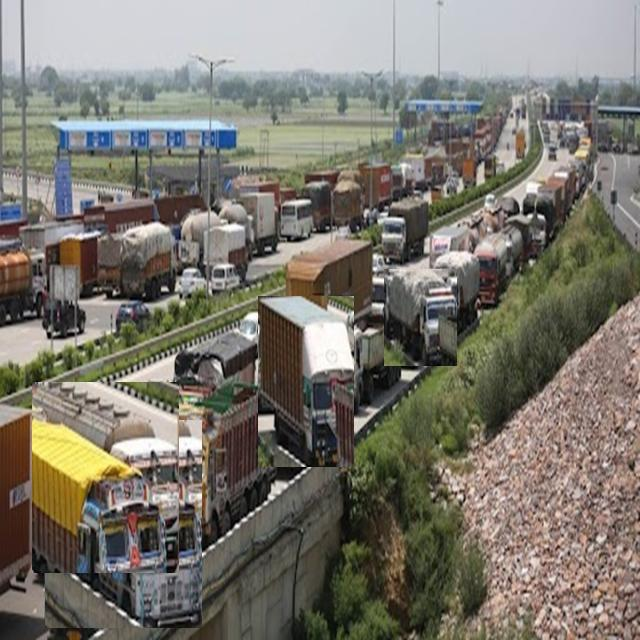car: (239, 313, 266, 354)
truck: (45, 420, 202, 628), (32, 383, 179, 573), (259, 297, 354, 467), (385, 270, 457, 366), (382, 198, 429, 262)
